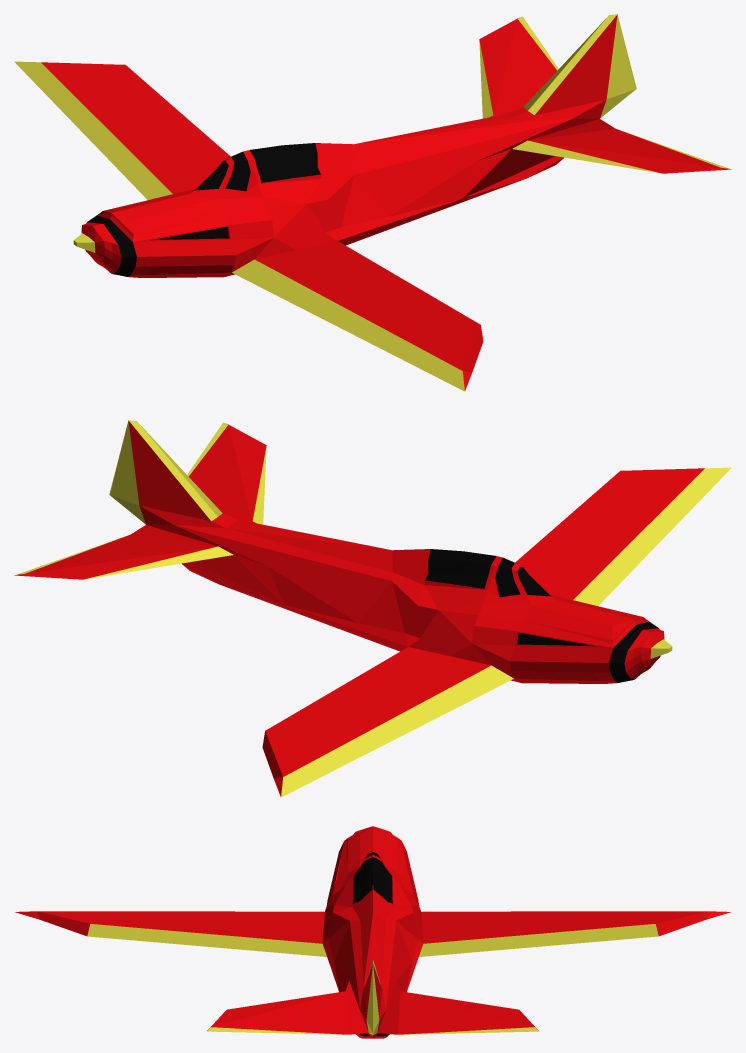
The model's file is Spit Fighter.fbx.
3 renders of one model, top to bottom at view 1: azimuth 30°, elevation 25°; view 2: azimuth 150°, elevation 25°; view 3: azimuth 270°, elevation 25°, orthographic. The views are drawn at different scales.
Visible parts, largest first — view 1: Cube; view 2: Cube; view 3: Cube.
Part boxes in pixels (<box>): Cube: <box>14,14,731,391</box>; Cube: <box>14,420,731,797</box>; Cube: <box>15,826,730,1038</box>.
Bounding box in the file's own units: 33.25 × 8.87 × 46.27.
